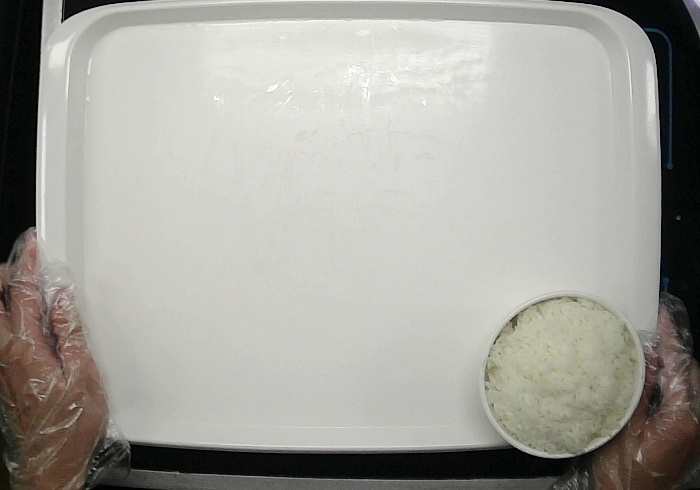HZYJPL-Fan_Wan: (480, 291, 645, 459)
